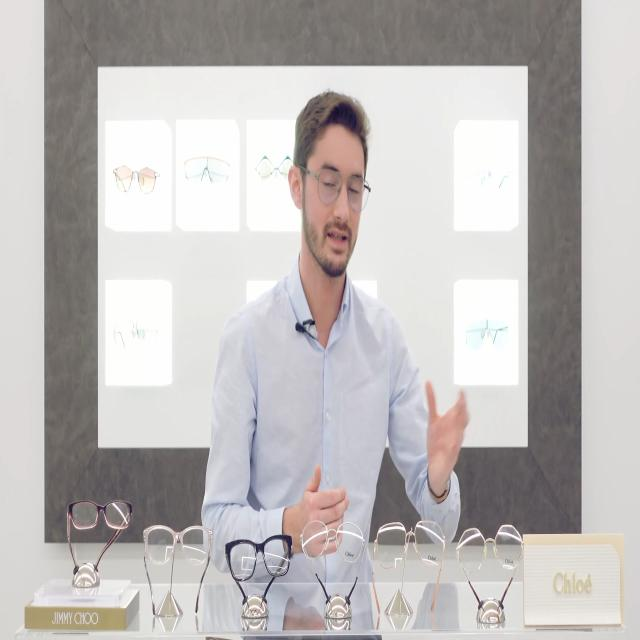dress: (202, 250, 462, 580)
glasses: (317, 164, 370, 210)
